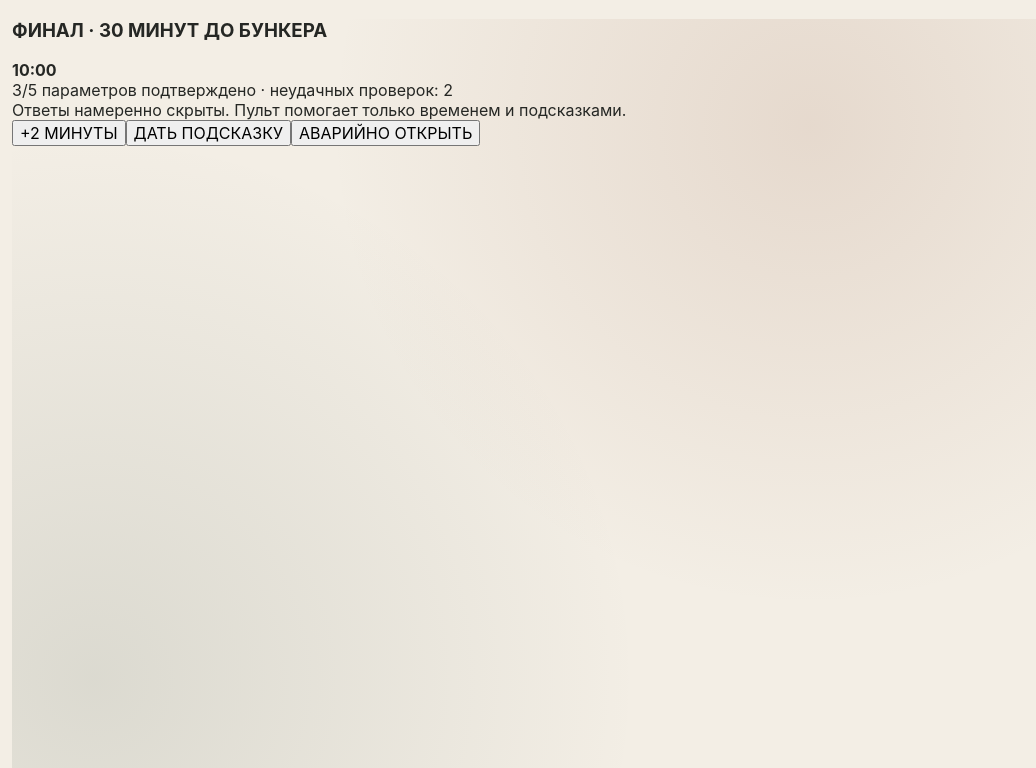
Test: FinalOwnerPanel › keeps emergency confirmation open and shows an actionable error when the server rejects opening
Click the button "АВАРИЙНО ОТКРЫТЬ" at (386, 133), box [291,120,480,146]
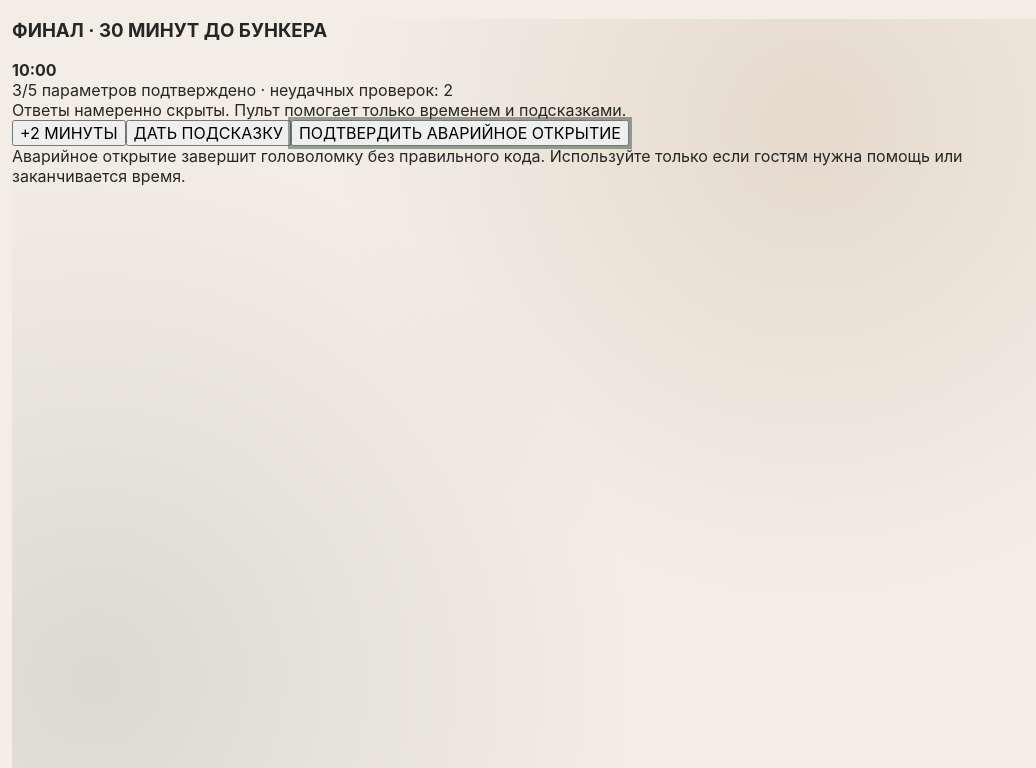
Click the button "ПОДТВЕРДИТЬ АВАРИЙНОЕ ОТКРЫТИЕ" at (460, 133), box [291,120,629,146]
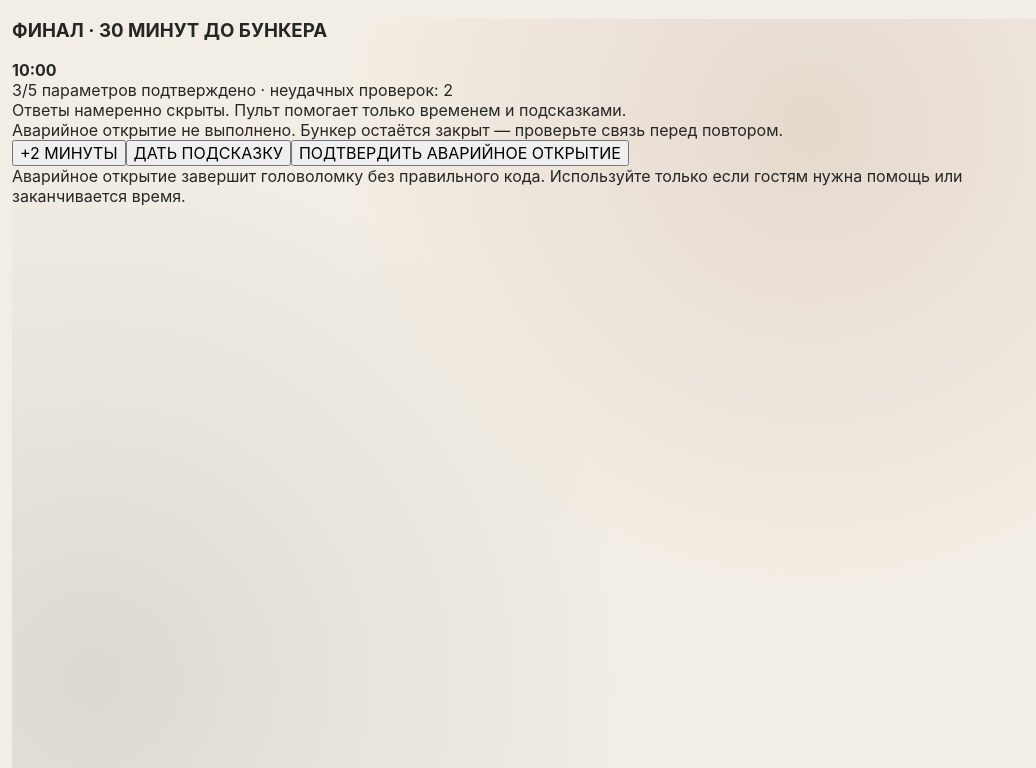
Expected: the button "ПОДТВЕРДИТЬ АВАРИЙНОЕ ОТКРЫТИЕ" is shown, [291,140,629,166]
Expected: the text "Бункер остаётся закрыт" is shown, [12,120,783,140]
